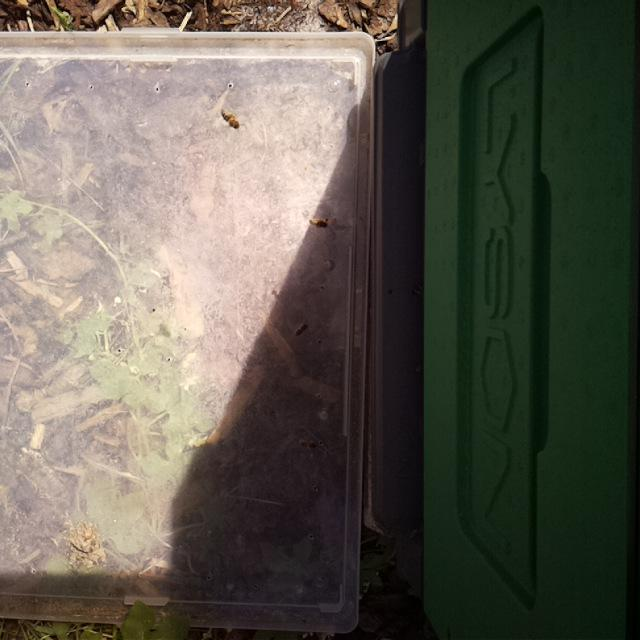worker-bee: (217, 105, 244, 132), (295, 435, 324, 456), (305, 215, 334, 232), (291, 319, 312, 338)
